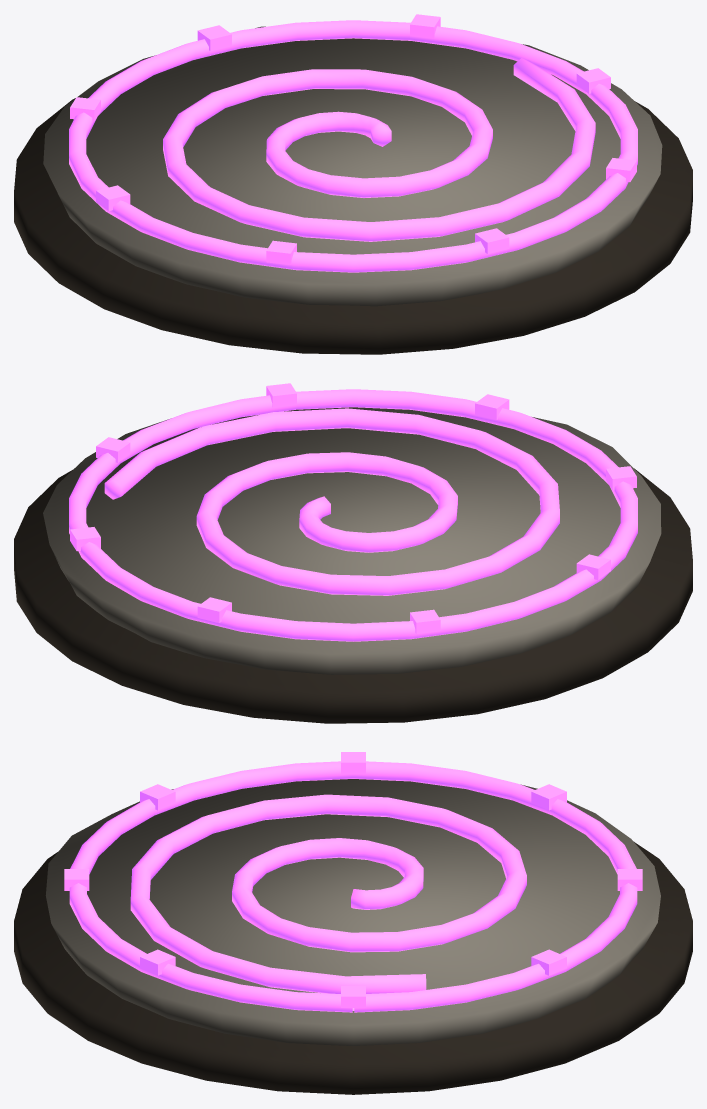
File: kit_trap4.glb
The picture shows the model from 3 angles, top to bottom: view 1: azimuth 30°, elevation 25°; view 2: azimuth 150°, elevation 25°; view 3: azimuth 270°, elevation 25°; orthographic projection.
Visible parts, largest first — view 1: kit_trap4; view 2: kit_trap4; view 3: kit_trap4.
Part boxes in pixels (bbox=[...]): kit_trap4: bbox=[14, 14, 692, 354]; kit_trap4: bbox=[14, 383, 692, 723]; kit_trap4: bbox=[14, 752, 692, 1094].
Bounding box in the file's own units: 0.81 × 0.1015 × 0.81.
